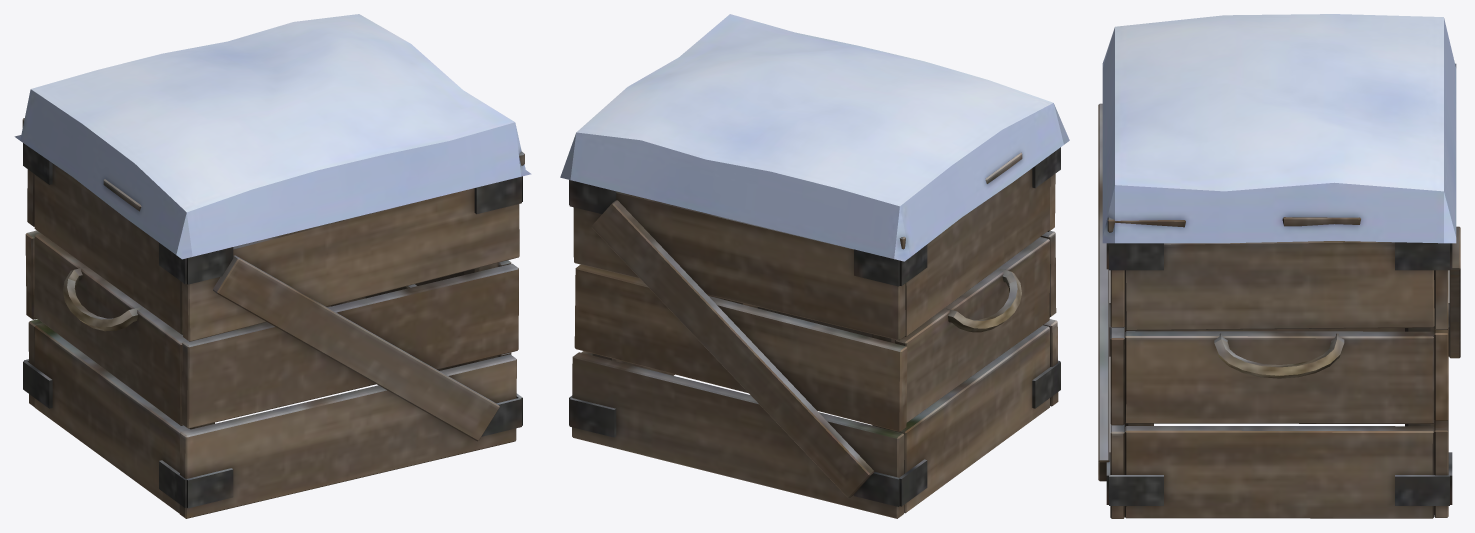
File: fm_crate_snow.glb
The picture shows the model from 3 angles, left to right: view 1: azimuth 30°, elevation 25°; view 2: azimuth 150°, elevation 25°; view 3: azimuth 270°, elevation 25°; orthographic projection. The views are drawn at different scales.
Parts seen in each view (by area): view 1: fm_crate_snow; view 2: fm_crate_snow; view 3: fm_crate_snow.
Boxes of the visible parts, x1,y1,x2,y2 form: fm_crate_snow: (14, 14, 531, 518); fm_crate_snow: (560, 14, 1069, 518); fm_crate_snow: (1098, 14, 1460, 518).
Size of the model in its own units: 0.7277 by 0.6139 by 0.5574.
2 materials, 2 textured.
